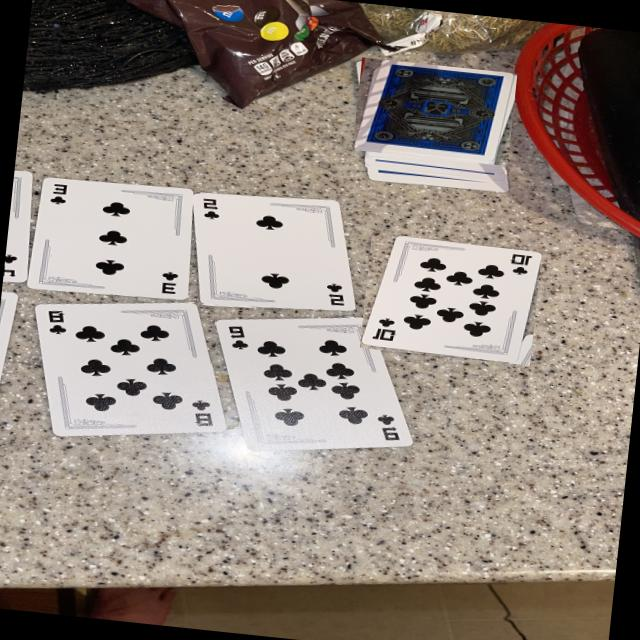10 of clubs: (360, 235, 541, 363)
2 of clubs: (192, 193, 355, 311)
3 of clubs: (27, 177, 193, 299)
8 of clubs: (35, 303, 225, 437)
9 of clubs: (215, 317, 412, 451)
card back: (353, 61, 516, 161)
